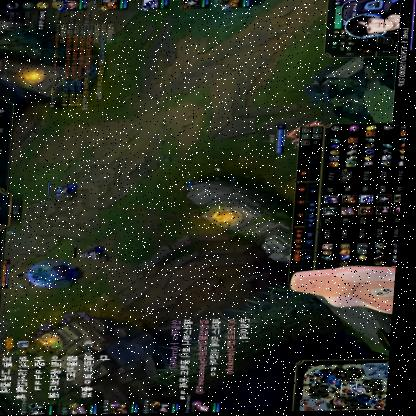streamer: (343, 1, 401, 44)
